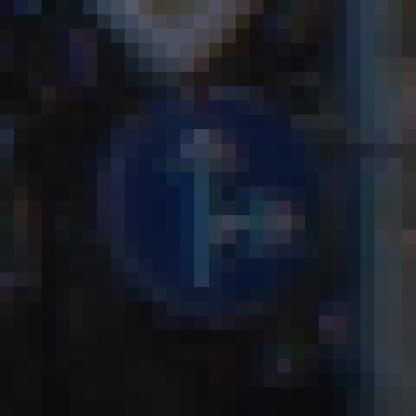Straight or Right: (84, 73, 348, 345)
